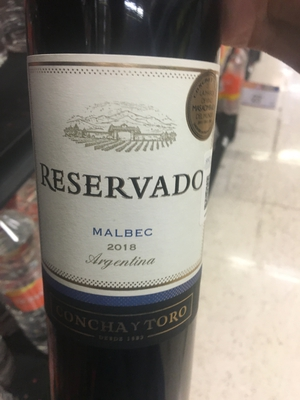reservado malbec: (22, 6, 231, 375)
